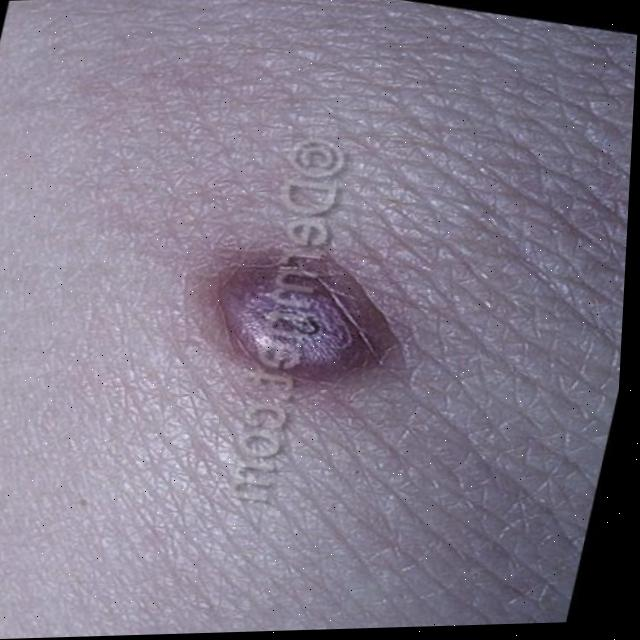Eczema: (227, 252, 368, 357)
